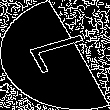L_E: (14, 31, 96, 79)
